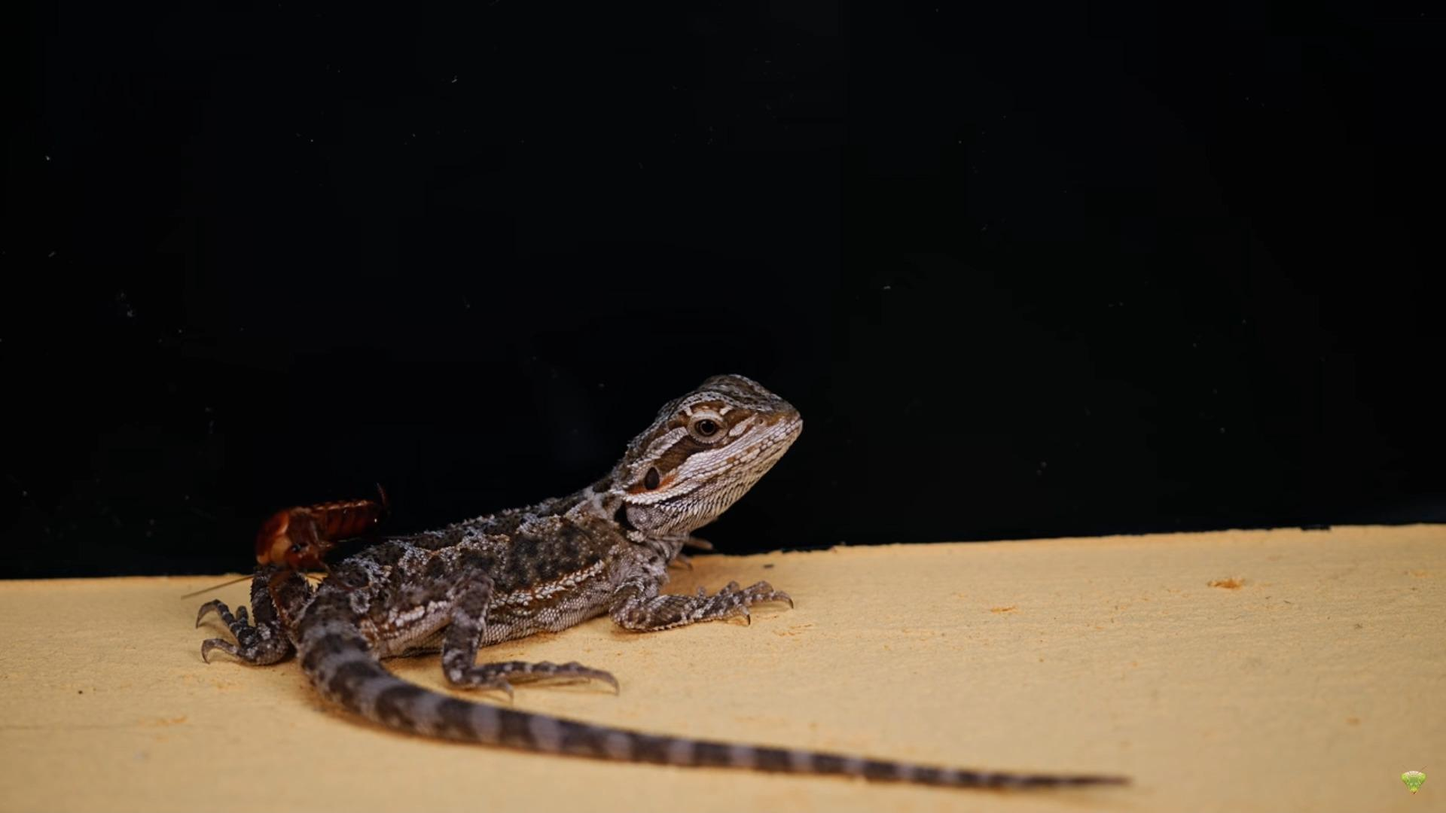cockroach: (238, 483, 395, 586)
lizard: (192, 363, 1022, 787)
